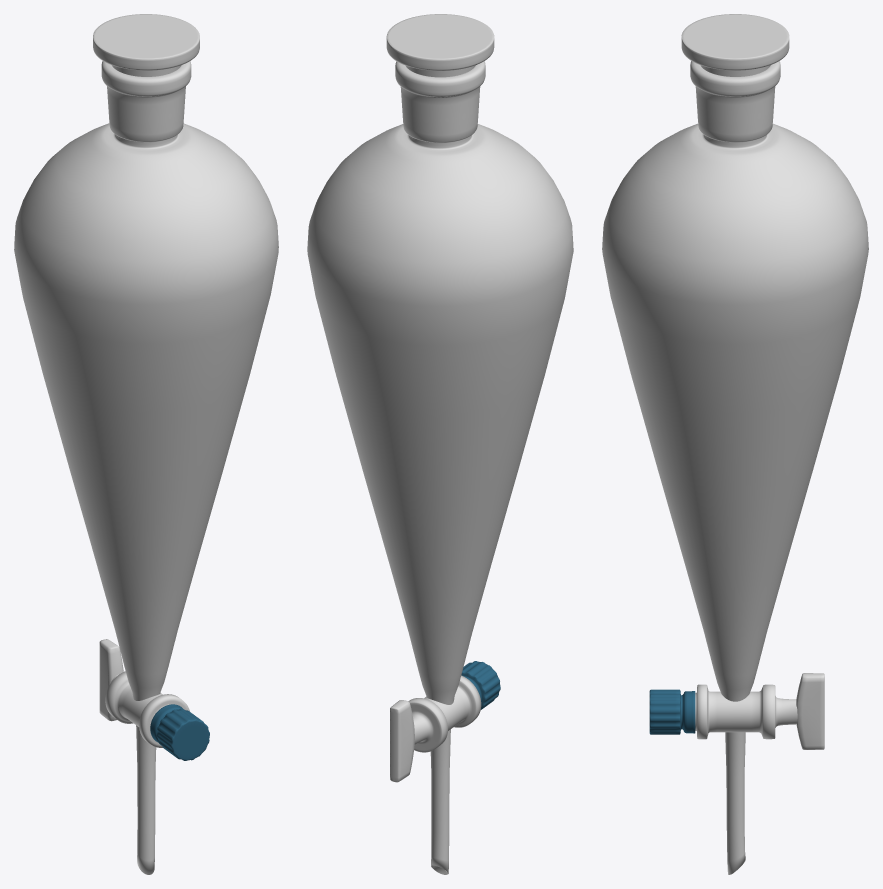
File: delici nalevka.fbx
The picture shows the model from 3 angles, left to right: view 1: azimuth 30°, elevation 25°; view 2: azimuth 150°, elevation 25°; view 3: azimuth 270°, elevation 25°; orthographic projection.
Visible parts, largest first — view 1: Cylinder.027, Cylinder.028; view 2: Cylinder.027, Cylinder.028; view 3: Cylinder.027, Cylinder.028.
Part boxes in pixels (<box>): Cylinder.027: <box>14,14,278,874</box>; Cylinder.028: <box>150,704,209,760</box>; Cylinder.027: <box>307,14,573,874</box>; Cylinder.028: <box>461,661,500,709</box>; Cylinder.027: <box>602,14,868,874</box>; Cylinder.028: <box>649,689,695,734</box>.
Size of the model in its own units: 92.01 by 321 by 92.6.
